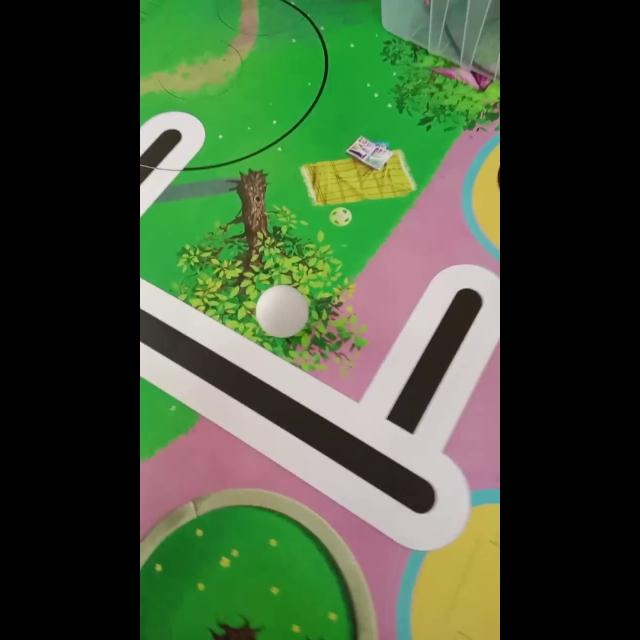white ball: (254, 284, 310, 338)
